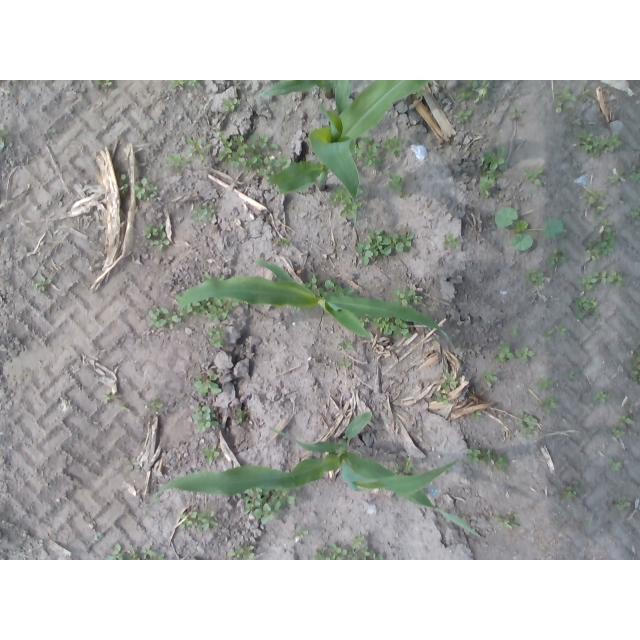Maize: (145, 411, 479, 536), (179, 258, 452, 343), (268, 82, 429, 222), (259, 81, 337, 99)
Weeds: (495, 207, 568, 254), (582, 188, 619, 265), (217, 134, 290, 173), (355, 231, 418, 268), (243, 489, 302, 527), (311, 536, 388, 561), (475, 146, 509, 199), (357, 136, 407, 172), (577, 133, 626, 160), (454, 80, 497, 108), (465, 447, 511, 473), (494, 342, 539, 367), (433, 372, 464, 406), (186, 406, 223, 434), (580, 270, 626, 292), (177, 511, 219, 533), (192, 373, 225, 400), (185, 304, 233, 322), (553, 84, 580, 116), (569, 294, 599, 322), (375, 318, 414, 339), (187, 135, 214, 164), (329, 187, 355, 217), (145, 224, 172, 250), (132, 178, 159, 204), (191, 203, 221, 226), (148, 306, 181, 326), (519, 411, 542, 437), (165, 153, 187, 180), (394, 288, 427, 306), (612, 414, 633, 442), (628, 340, 640, 389), (104, 542, 136, 560), (324, 279, 356, 297), (540, 327, 570, 346), (606, 170, 640, 186), (440, 233, 464, 255), (386, 175, 406, 201), (548, 249, 573, 269), (226, 544, 256, 560), (227, 405, 251, 425), (206, 328, 226, 352), (524, 271, 549, 290), (203, 443, 222, 466), (35, 278, 58, 297), (526, 166, 544, 190), (536, 376, 561, 392), (540, 395, 558, 417), (133, 549, 168, 560), (270, 237, 295, 252), (483, 367, 500, 389), (561, 484, 579, 504), (394, 456, 415, 473), (292, 528, 313, 545), (220, 98, 238, 117), (171, 80, 206, 89), (500, 515, 521, 529), (613, 496, 631, 512), (457, 107, 472, 125), (93, 80, 115, 92), (627, 204, 640, 224), (337, 337, 355, 351), (145, 399, 164, 411), (593, 390, 607, 406), (103, 390, 117, 405), (305, 277, 319, 292), (0, 128, 8, 153), (119, 175, 129, 193), (583, 86, 594, 102), (337, 359, 352, 370), (509, 105, 520, 120), (95, 530, 107, 543), (611, 461, 623, 472), (510, 326, 520, 337), (572, 118, 582, 127), (570, 371, 579, 380), (633, 146, 640, 153)
